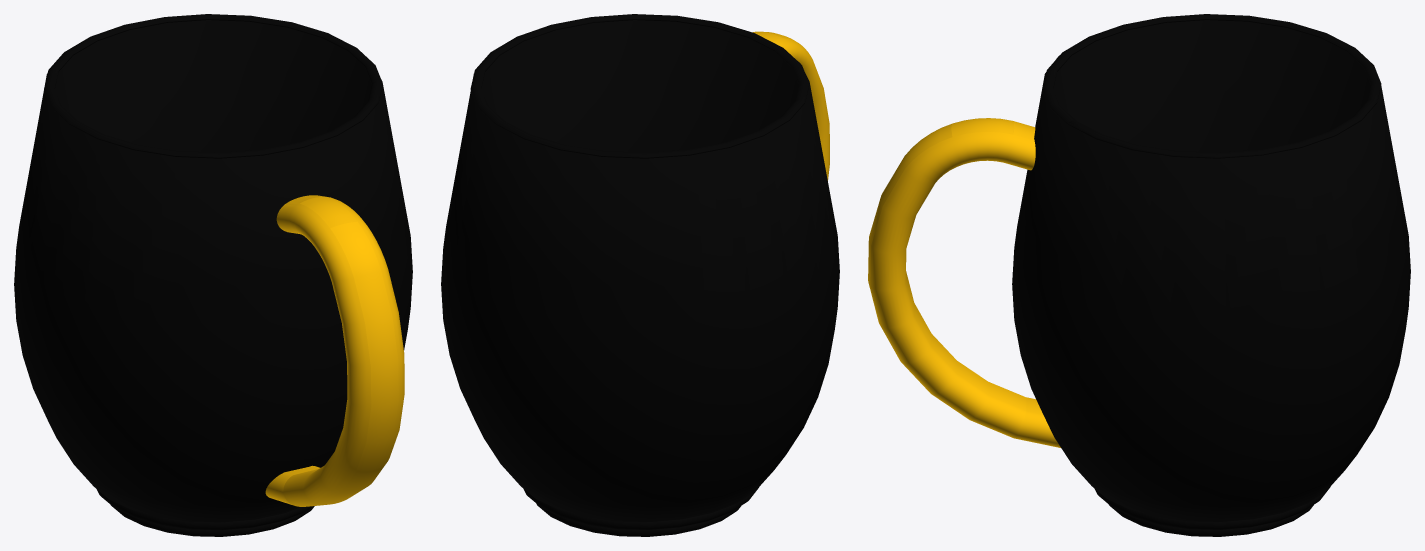
The model's file is mug_05_origin_gt_1.dae.
The picture shows the model from 3 angles, left to right: view 1: azimuth 30°, elevation 25°; view 2: azimuth 150°, elevation 25°; view 3: azimuth 270°, elevation 25°; orthographic projection.
Visible parts, largest first — view 1: group_1 (×2), group_4, group_5, group_2, group_3; view 2: group_1 (×2), group_5, group_4, group_2, group_3; view 3: group_1 (×2), group_4, group_5, group_2, group_3.
Part boxes in pixels (left/top/right/bottom): group_1 (×2): left=14, top=20, right=412, bottom=522; group_4: left=265, top=195, right=404, bottom=506; group_5: left=44, top=14, right=382, bottom=158; group_2: left=97, top=489, right=313, bottom=530; group_3: left=111, top=505, right=314, bottom=536; group_1 (×2): left=441, top=20, right=839, bottom=521; group_5: left=470, top=14, right=809, bottom=158; group_4: left=753, top=31, right=829, bottom=180; group_2: left=523, top=487, right=758, bottom=529; group_3: left=536, top=504, right=740, bottom=536; group_1 (×2): left=1012, top=20, right=1410, bottom=521; group_4: left=868, top=118, right=1060, bottom=447; group_5: left=1042, top=14, right=1381, bottom=158; group_2: left=1095, top=487, right=1330, bottom=529; group_3: left=1109, top=505, right=1313, bottom=536.
Size of the model in its own units: 5.08 by 6.92 by 5.75.
